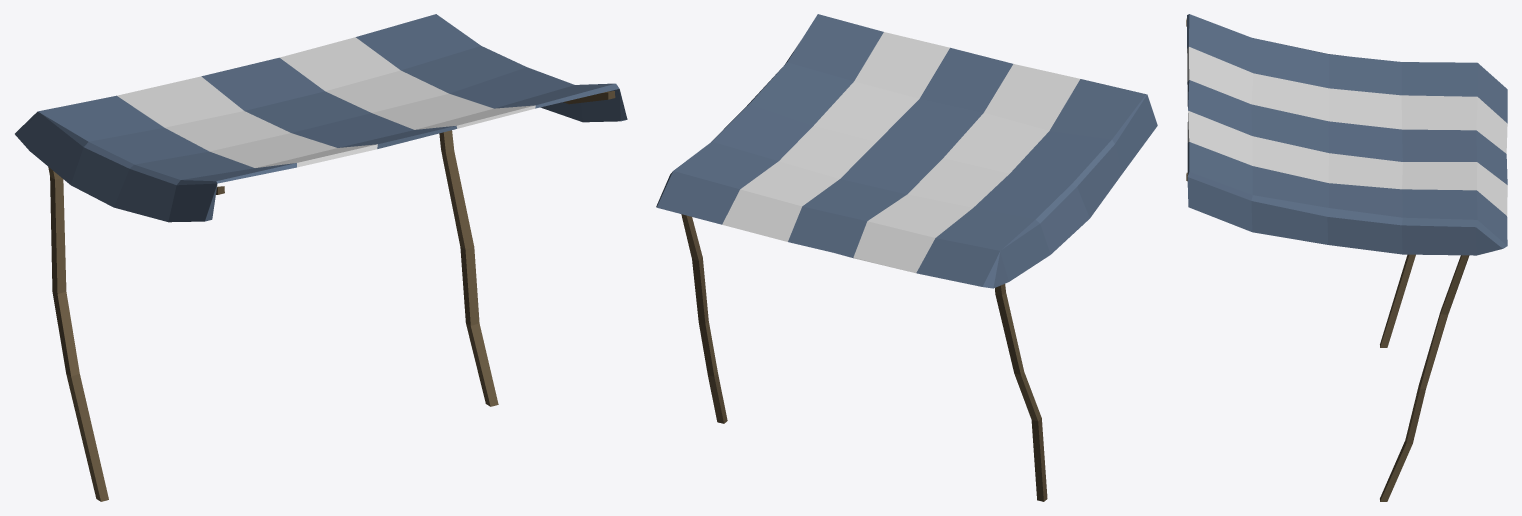
File: greek_awning_3.fbx
The picture shows the model from 3 angles, left to right: view 1: azimuth 30°, elevation 25°; view 2: azimuth 150°, elevation 25°; view 3: azimuth 270°, elevation 25°; orthographic projection. The views are drawn at different scales.
Visible parts, largest first — view 1: Cube.081; view 2: Cube.081; view 3: Cube.081.
Part boxes in pixels (left/top/right/bottom): Cube.081: left=15, top=14, right=627, bottom=501; Cube.081: left=656, top=14, right=1157, bottom=501; Cube.081: left=1186, top=14, right=1507, bottom=501.
Bounding box in the file's own units: 327 × 297 × 262.
